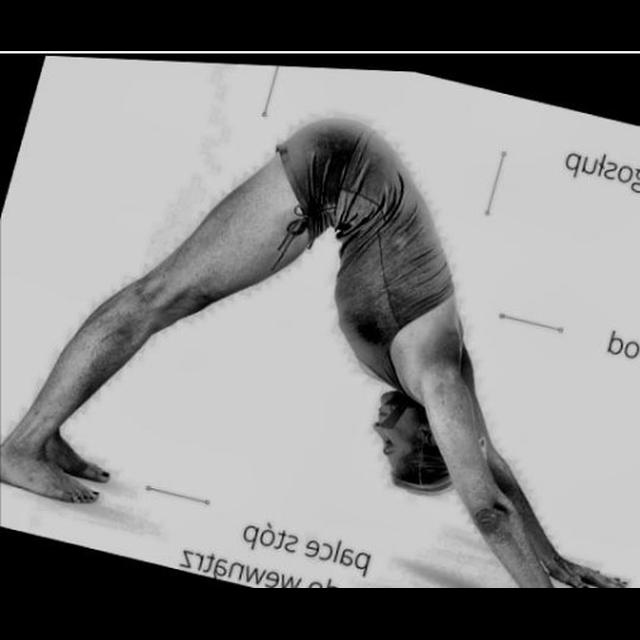Downward-Facing_Dog: (4, 115, 630, 588)
